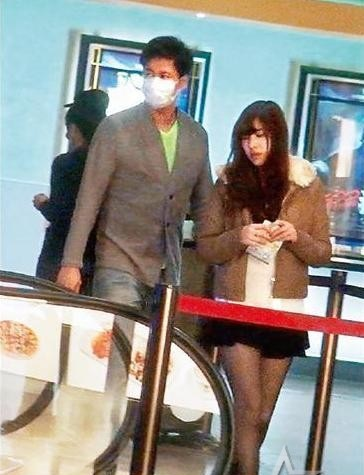face: (241, 121, 268, 165)
face_mask: (143, 56, 176, 109)
